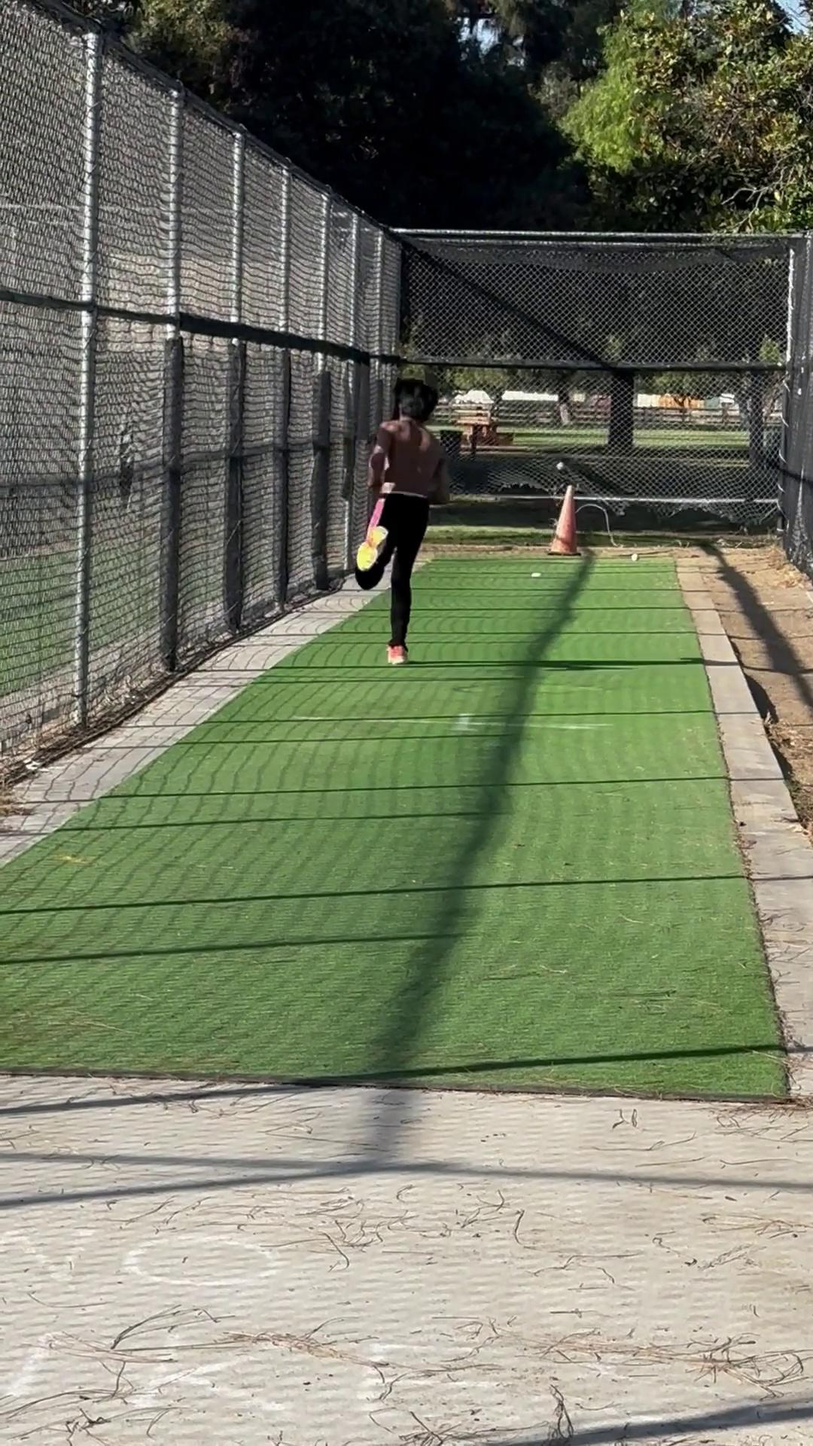ball: (554, 459, 568, 473)
